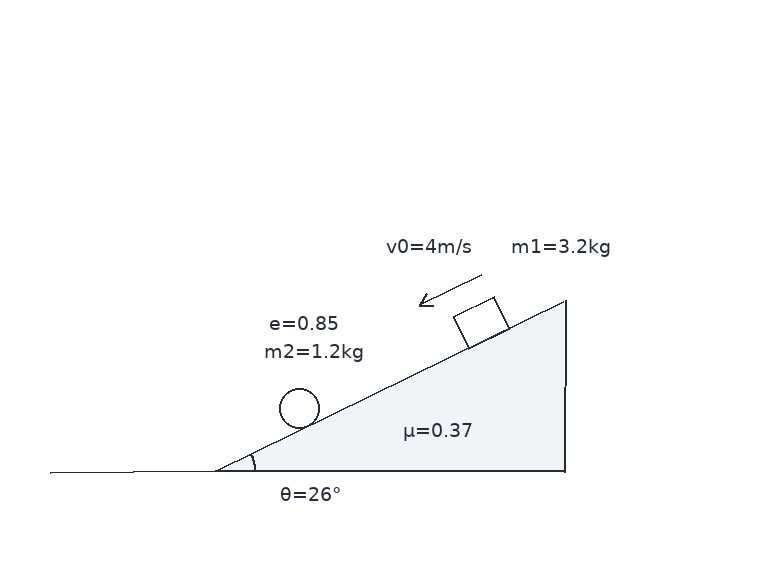ball: (277, 386, 321, 430)
block: (451, 295, 512, 350)
ramp: (213, 299, 566, 473)
